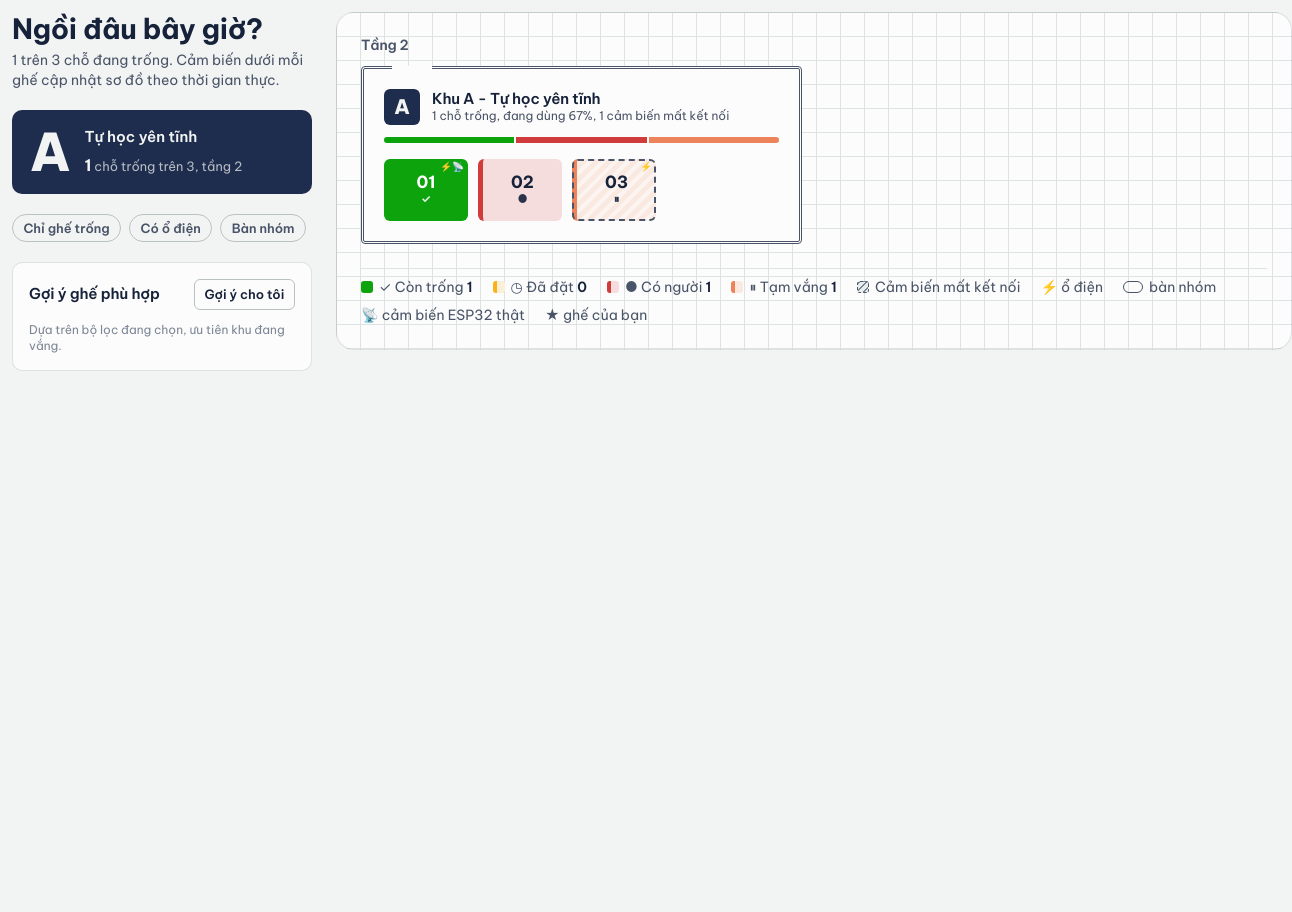
MapPage › lets a signed-in student book an available seat
This screenshot has width=1292, height=912.
Click the button named "Ghế A-01" at (426, 190), box [384,159,468,221]
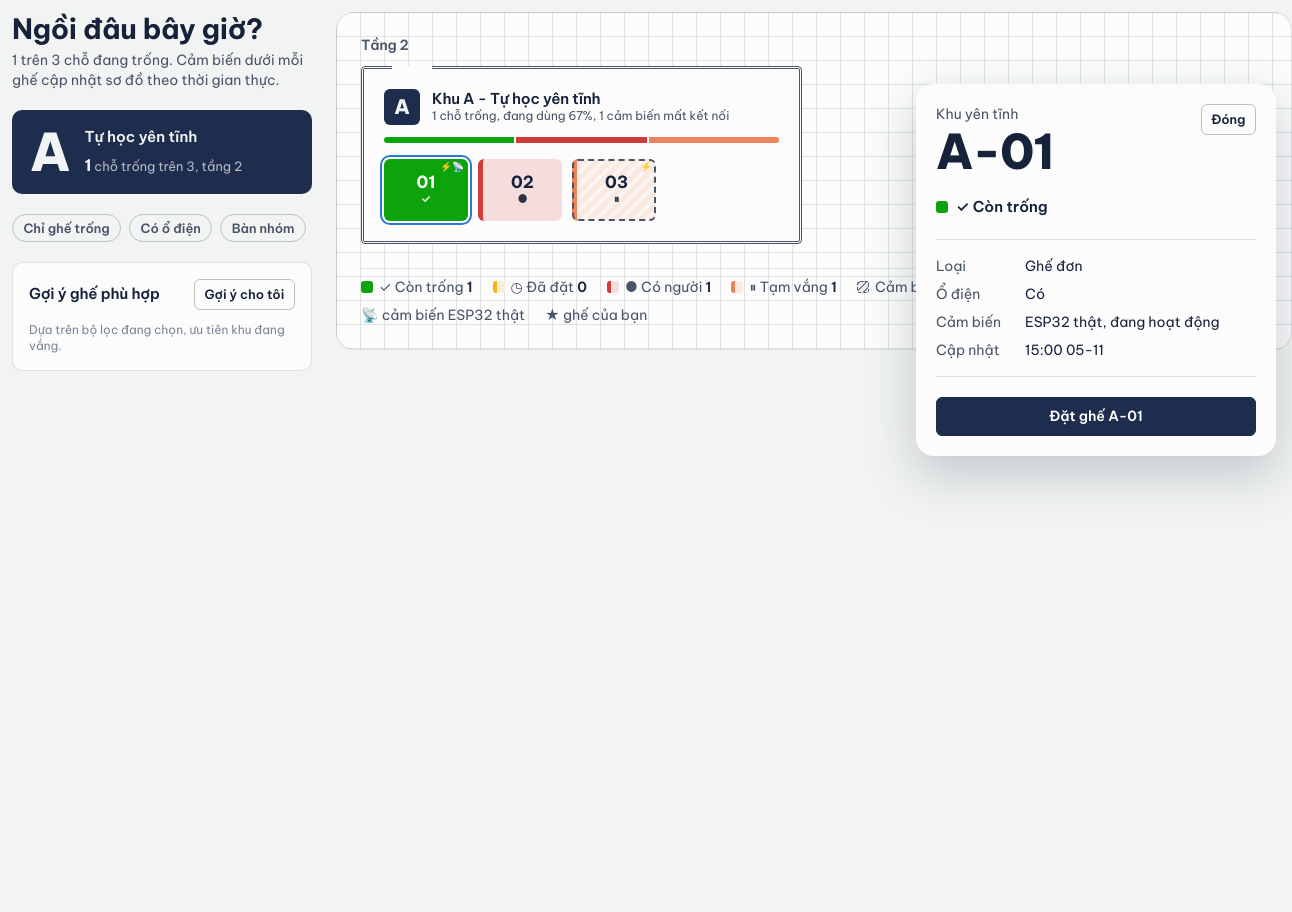
Click the button "Đặt ghế A-01" at (1096, 416), box [936,396,1256,436]
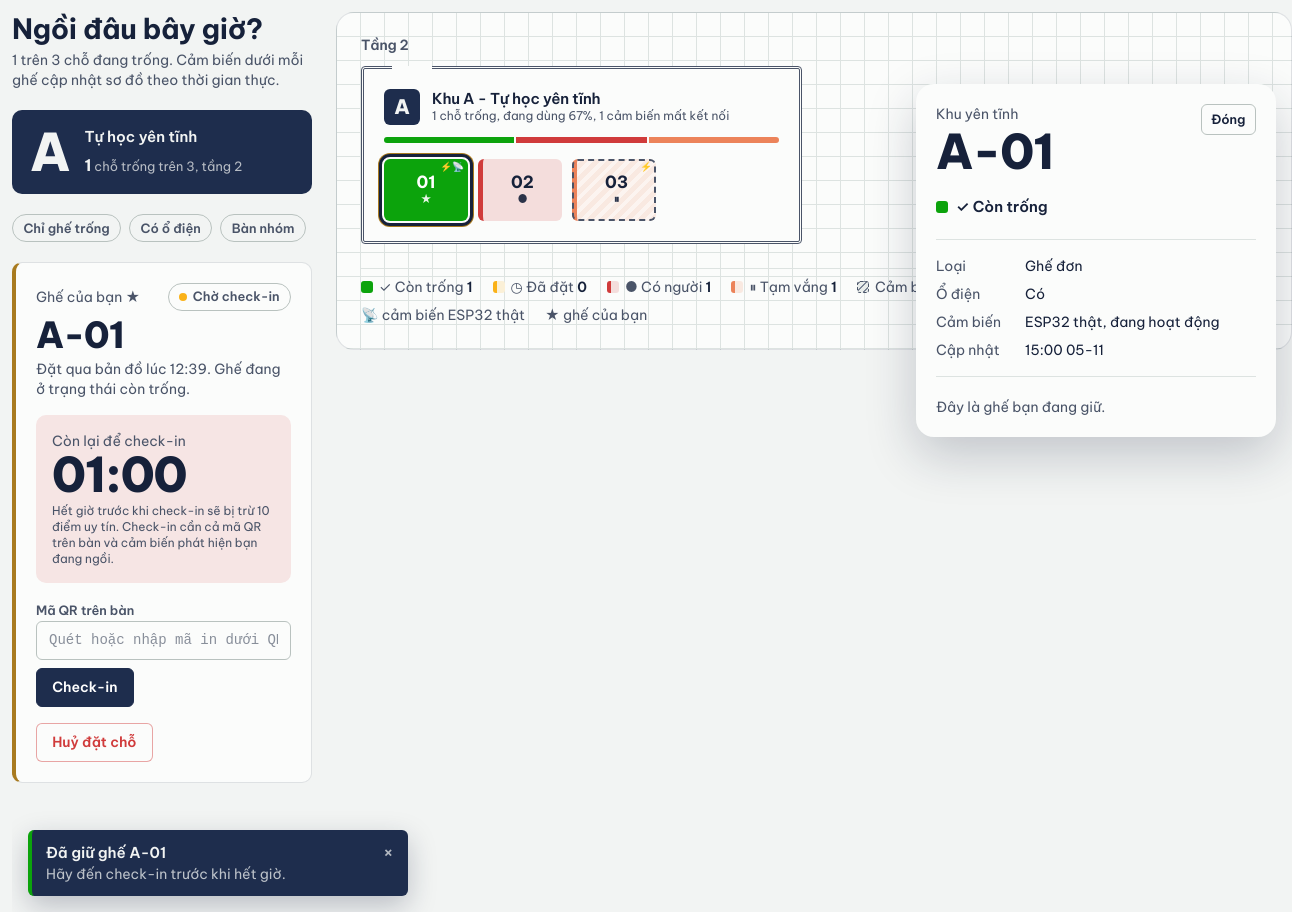
Check: the element named "Lượt đặt chỗ hiện tại" is shown, box [12,262,312,783]
Check: the text "Đây là ghế bạn đang giữ." is shown, box [936,398,1105,416]
